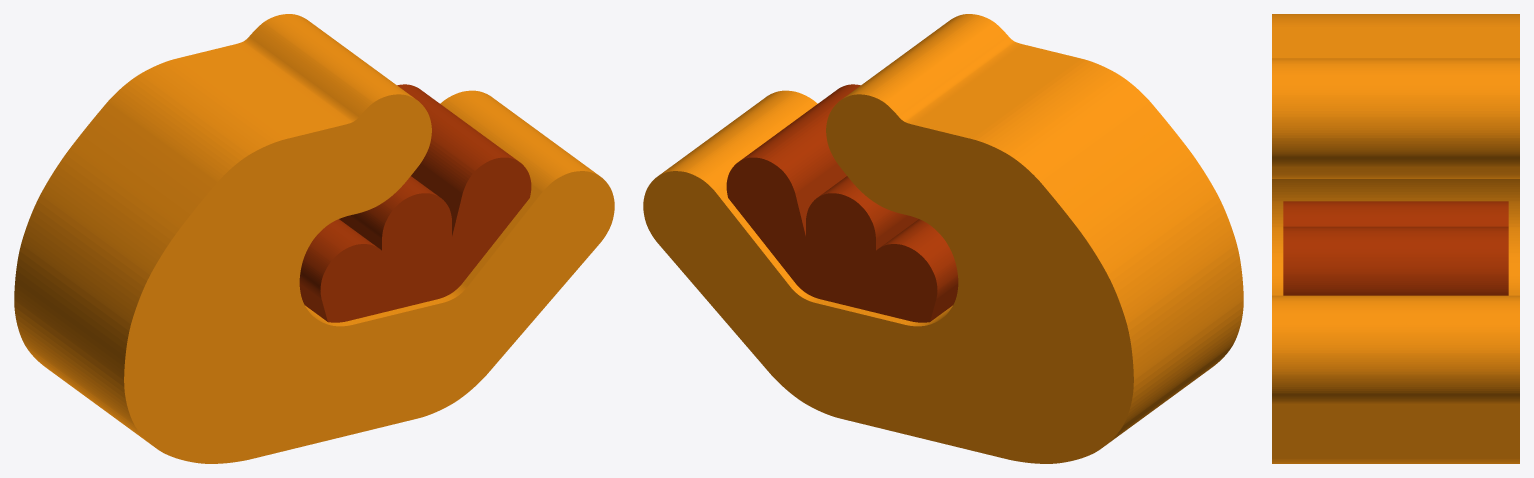
The model's file is U+1FAF4.obj.
3 views of the same model, side by side, from view 1: azimuth 30°, elevation 25°; view 2: azimuth 150°, elevation 25°; view 3: azimuth 270°, elevation 25° (orthographic). The views are drawn at different scales.
Visible parts, largest first — view 1: U+1FAF4_layer01_obj00, U+1FAF4_layer00_obj00; view 2: U+1FAF4_layer01_obj00, U+1FAF4_layer00_obj00; view 3: U+1FAF4_layer01_obj00, U+1FAF4_layer00_obj00.
Part boxes in pixels (left/top/right/bottom): U+1FAF4_layer01_obj00: left=14, top=14, right=614, bottom=463; U+1FAF4_layer00_obj00: left=299, top=84, right=531, bottom=322; U+1FAF4_layer01_obj00: left=643, top=14, right=1243, bottom=463; U+1FAF4_layer00_obj00: left=726, top=84, right=958, bottom=322; U+1FAF4_layer01_obj00: left=1272, top=14, right=1519, bottom=463; U+1FAF4_layer00_obj00: left=1283, top=201, right=1508, bottom=295.
Bounding box in the file's own units: 0.5673 × 0.3646 × 0.22.
